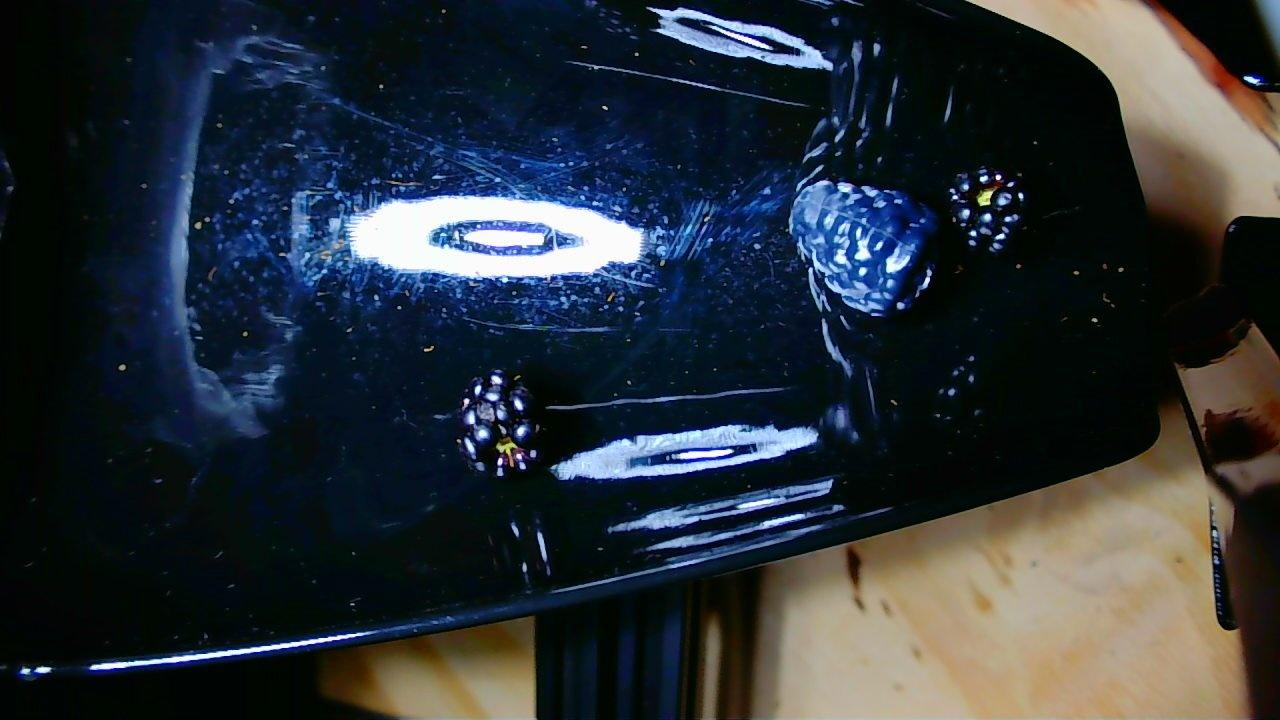berry: (790, 180, 938, 315), (458, 370, 539, 477), (948, 167, 1026, 252)
